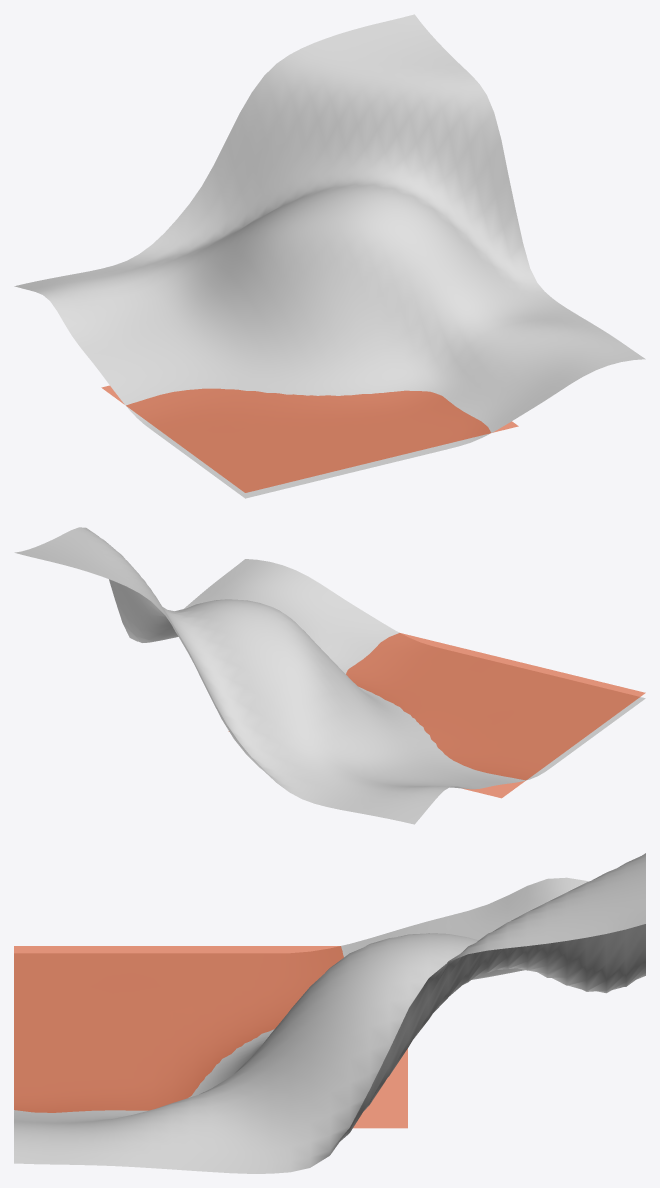
Rendered from chunk_-3_1.glb.
3 views of the same model, one above another, from view 1: azimuth 30°, elevation 25°; view 2: azimuth 150°, elevation 25°; view 3: azimuth 270°, elevation 25° (orthographic). The views are drawn at different scales.
Parts seen in each view (by area): view 1: chunk_-3_1-col, lava-lava; view 2: chunk_-3_1-col, lava-lava; view 3: chunk_-3_1-col, lava-lava.
Part boxes in pixels (<box>): chunk_-3_1-col: <box>14,14,645,498</box>; lava-lava: <box>101,385,518,492</box>; chunk_-3_1-col: <box>14,527,645,824</box>; lava-lava: <box>228,633,645,798</box>; chunk_-3_1-col: <box>14,853,645,1173</box>; lava-lava: <box>14,946,407,1128</box>.
Size of the model in its own units: 64 by 33.16 by 64.
